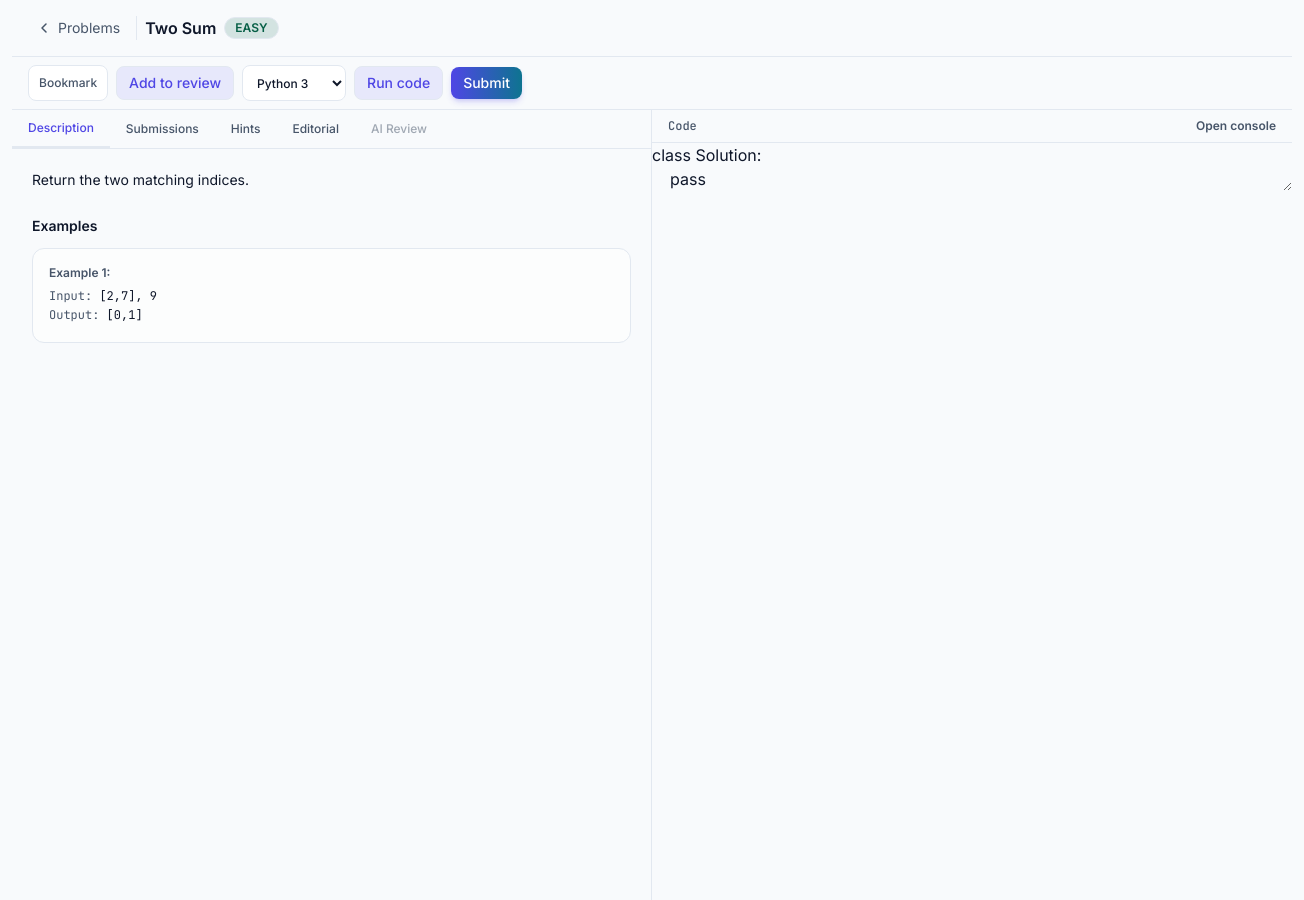
Test: problem workspace › keeps execution errors visible in the console
Click the button "Run code": [399, 83] box [354,66,443,100]
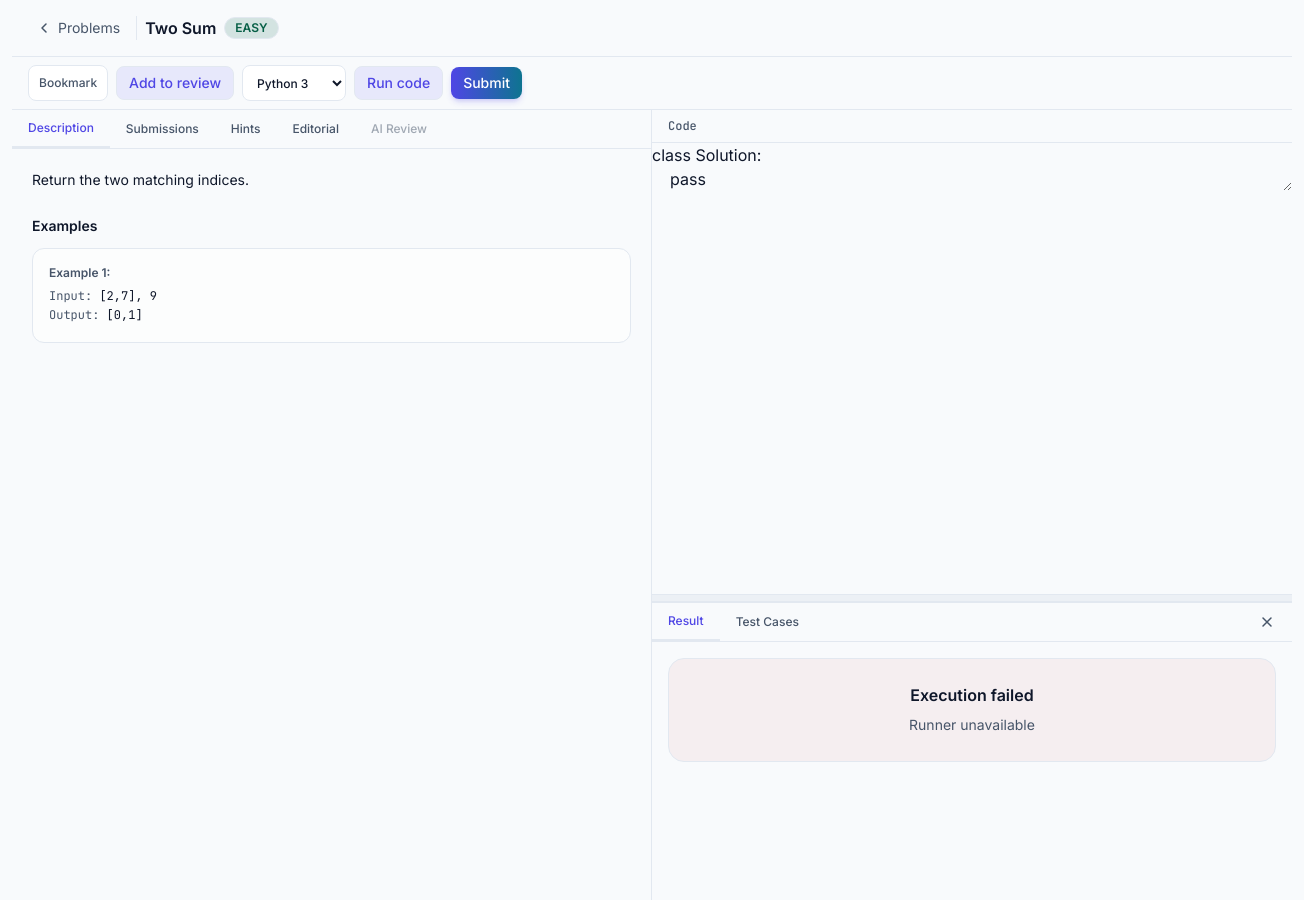
Result: the message shows "Runner unavailable" at [909,716,1035,733]
